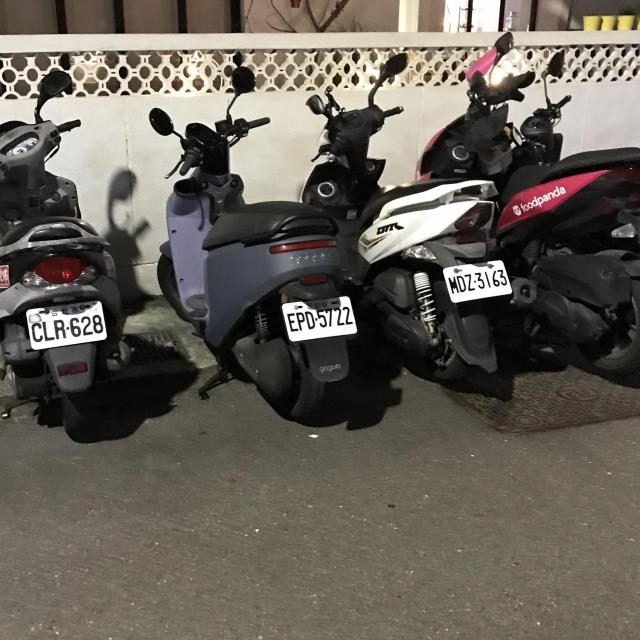W: (17, 297, 114, 352), (275, 292, 363, 346), (438, 253, 519, 305)
